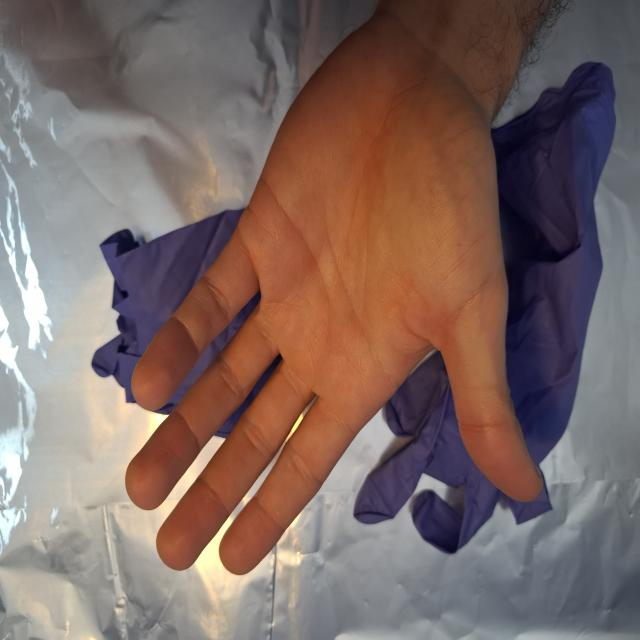glove_off: (123, 4, 548, 578)
